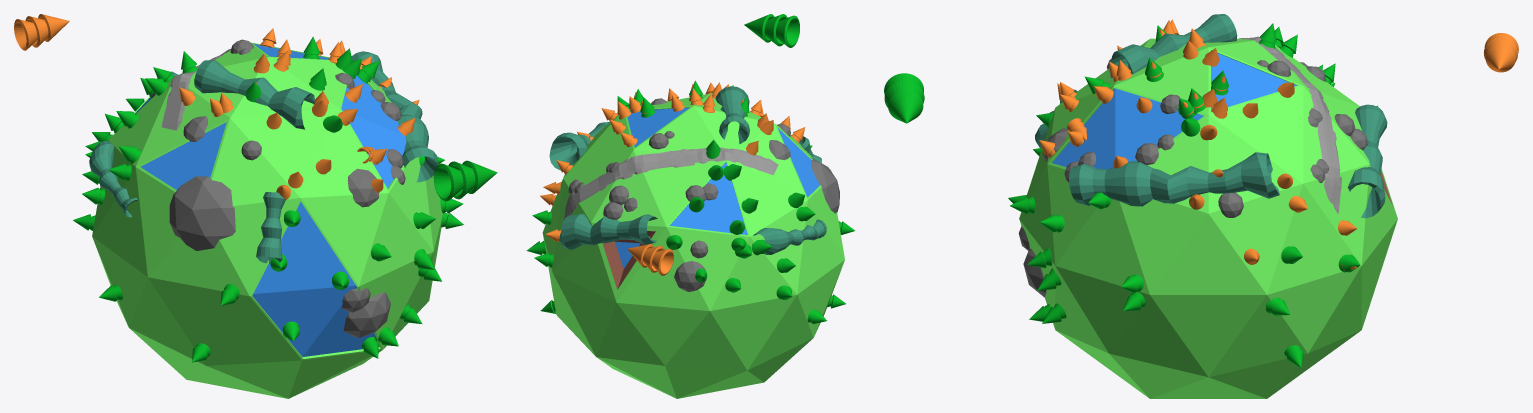
The model's file is jungle_Caves.fbx.
3 views of the same model, side by side, from view 1: azimuth 30°, elevation 25°; view 2: azimuth 150°, elevation 25°; view 3: azimuth 270°, elevation 25° (orthographic). The views are drawn at different scales.
Visible parts, largest first — view 1: Icosphere, Icosphere.012, Cylinder, Cylinder.001, Cone.010, Cylinder.003, Cylinder.002, Icosphere.024, Cone.001, Cylinder.006, Icosphere.013, Icosphere.025 (+1 smaller); view 2: Icosphere, Cylinder.006, Cylinder.004, Cone.010, Cylinder, Cylinder.002, Cylinder.001, Cone.001, Icosphere.012, Icosphere.008, Icosphere.011, Icosphere.007; view 3: Icosphere, Cylinder.001, Cylinder, Cylinder.004, Cylinder.006, Cone.010, Cone.001.
Part boxes in pixels (box(x1,y1,x2,y2)): Icosphere: box(92, 42, 442, 398); Icosphere.012: box(169, 176, 235, 250); Cylinder: box(194, 60, 314, 129); Cylinder.001: box(351, 51, 437, 182); Cone.010: box(433, 160, 497, 201); Cylinder.003: box(256, 192, 285, 263); Cylinder.002: box(89, 141, 137, 217); Icosphere.024: box(343, 292, 390, 337); Cone.001: box(14, 14, 69, 50); Cylinder.006: box(161, 49, 231, 130); Icosphere.013: box(347, 168, 379, 207); Icosphere.025: box(342, 288, 370, 312); Icosphere: box(542, 93, 844, 398); Cylinder.006: box(564, 147, 778, 219); Cylinder.004: box(559, 214, 657, 249); Cone.010: box(744, 14, 799, 47); Cylinder: box(715, 86, 749, 144); Cylinder.002: box(753, 219, 826, 254); Cylinder.001: box(549, 122, 609, 170); Cone.001: box(627, 244, 673, 275); Icosphere.012: box(811, 157, 839, 213); Icosphere.008: box(674, 261, 706, 291); Icosphere.011: box(769, 140, 790, 160); Icosphere.007: box(609, 185, 628, 204); Icosphere: box(1019, 38, 1397, 398); Cylinder.001: box(1069, 152, 1279, 206); Cylinder: box(1108, 14, 1237, 78); Cylinder.004: box(1347, 104, 1387, 218); Cylinder.006: box(1239, 36, 1341, 213); Cone.010: box(884, 73, 924, 123); Cone.001: box(1484, 33, 1518, 72).
Bounding box in the file's own units: 205 × 207 × 335.
